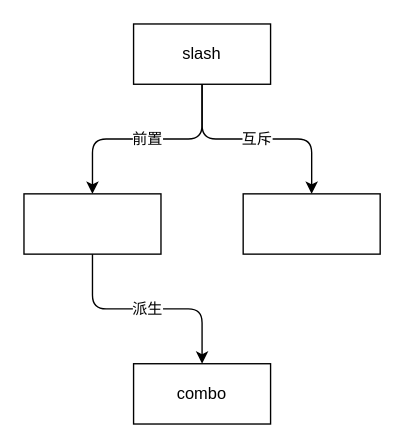
The diagram is 404 pixels wide and 448 high, and some of its shapes have lost their labels. The centre of each missing label's shape, as x and y in pixels:
guard: point 311,223
thrust: point 92,223
